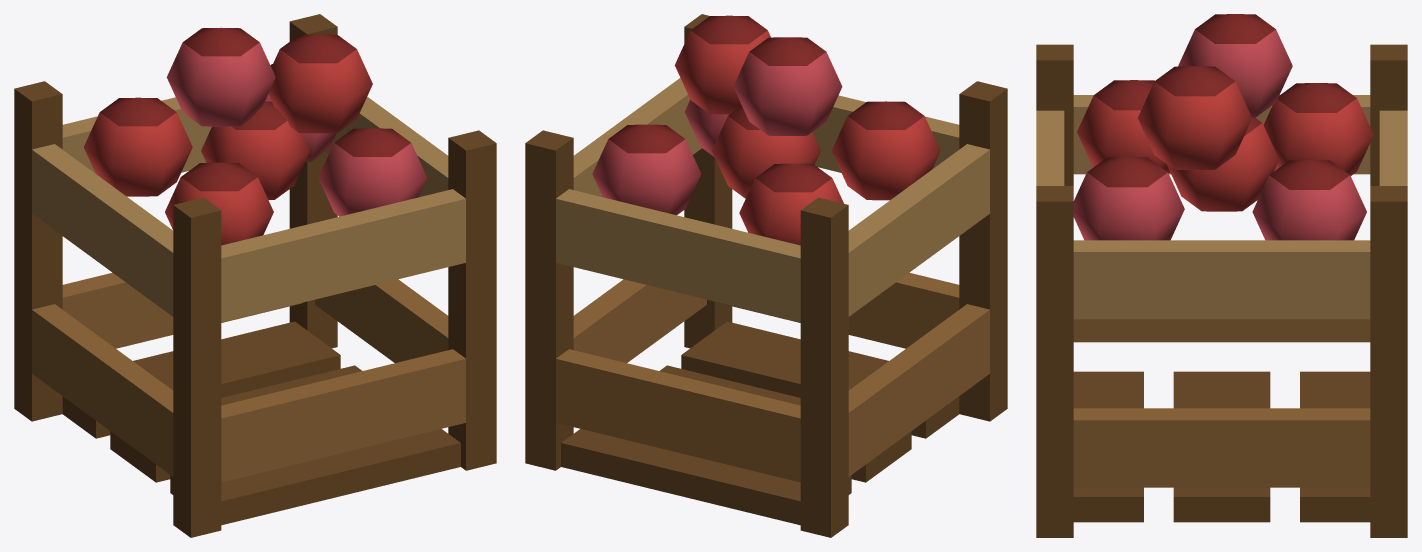
Rendered from apple_crate.glb.
3 views of the same model, side by side, from view 1: azimuth 30°, elevation 25°; view 2: azimuth 150°, elevation 25°; view 3: azimuth 270°, elevation 25° (orthographic). The views are drawn at different scales.
Visible parts, largest first — view 1: AppleCrate; view 2: AppleCrate; view 3: AppleCrate.
Part boxes in pixels (x1,y1,x2,y2): AppleCrate: [14, 14, 496, 537]; AppleCrate: [525, 14, 1007, 537]; AppleCrate: [1036, 14, 1407, 537].
Bounding box in the file's own units: 0.55 × 0.705 × 0.55.
